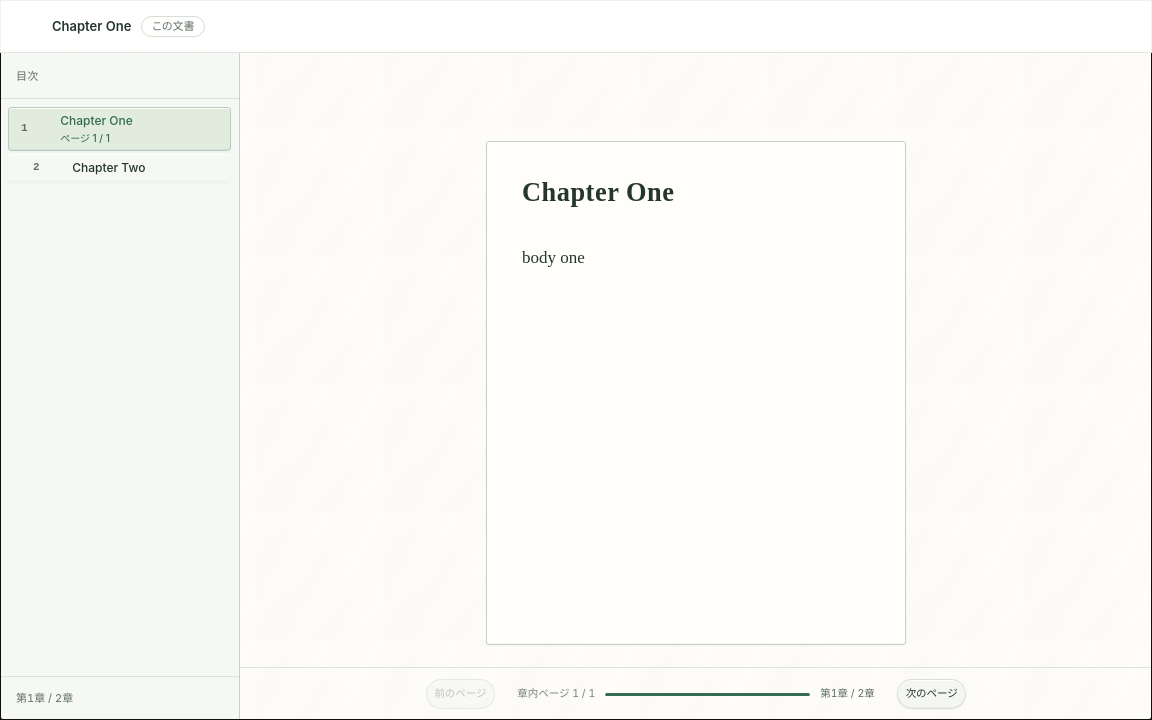
Test case: EBookPane chapter reader › shows a Reading Focus table of contents rail and jumps to a chapter
The width and height of the screenshot is (1152, 720).
Click the button "2 Chapter Two".
click(120, 168)  # box top-left (8, 153), bottom-right (231, 183)
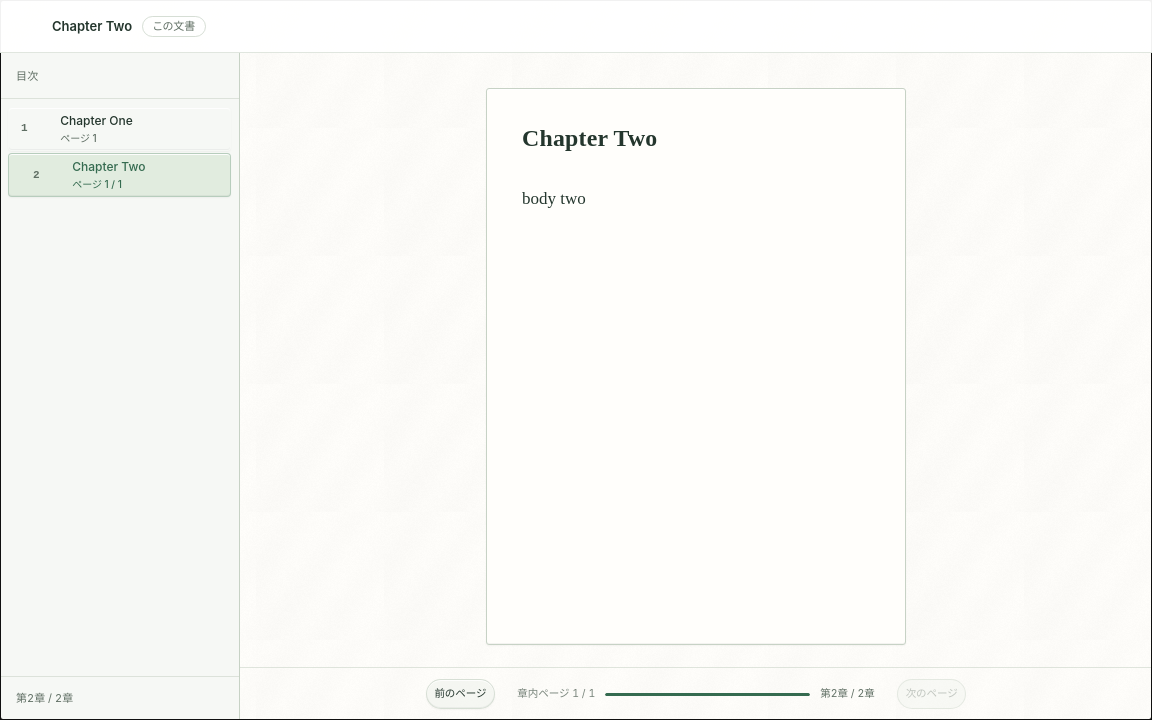
Expected: the text "章内ページ 1 / 1" is shown, top-left (517, 688), bottom-right (595, 700)
Expected: the heading "Chapter Two" is shown, top-left (522, 125), bottom-right (657, 151)
Expected: the 1st text "第2章 / 2章" is shown, top-left (0, 676), bottom-right (239, 719)
